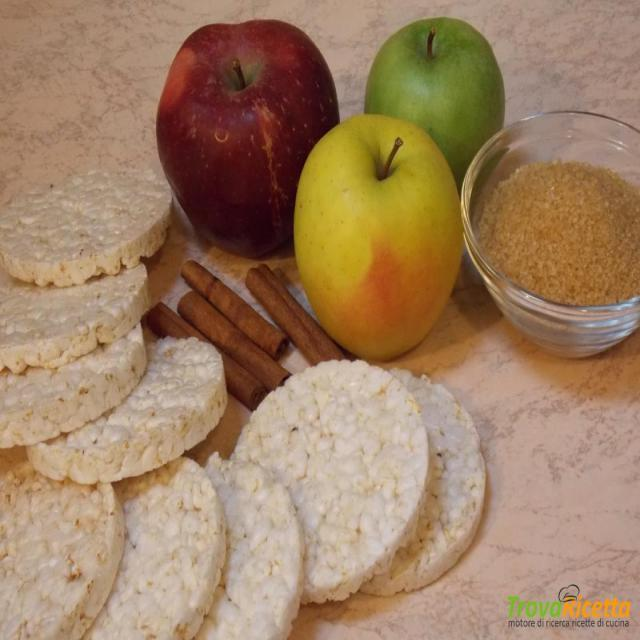Apple pie: (292, 114, 466, 364), (149, 27, 345, 243)
